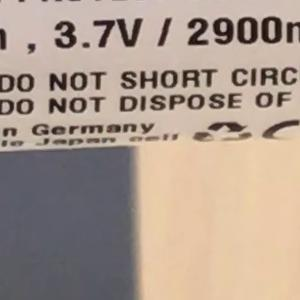keyword: (45, 8, 153, 59)
